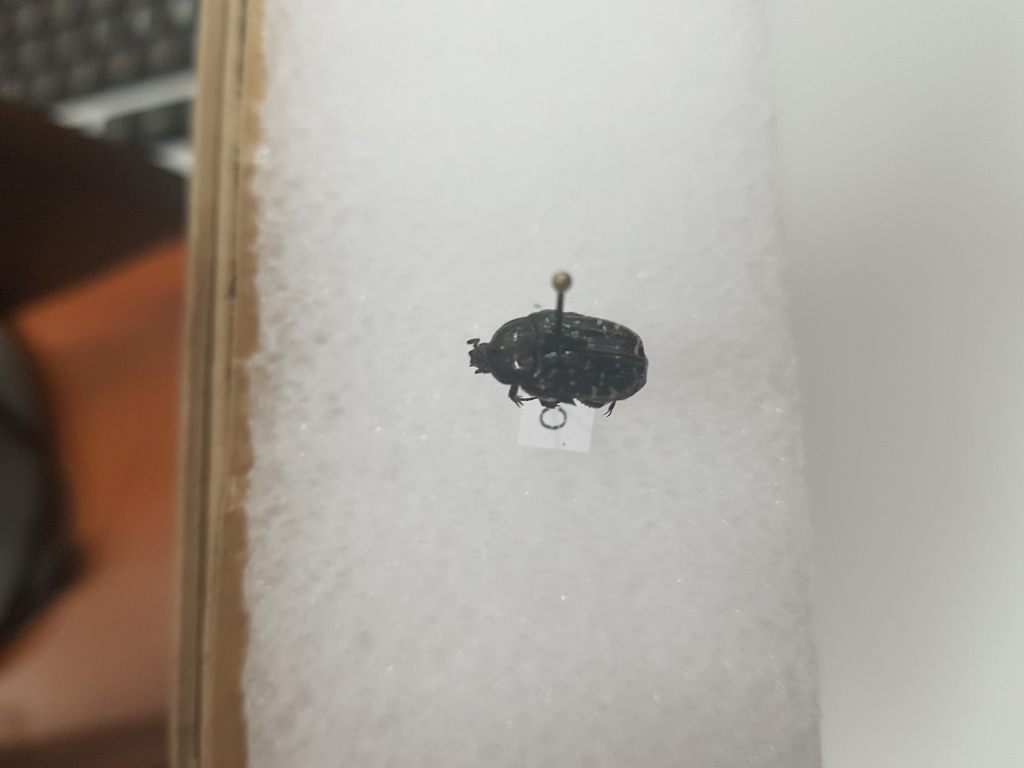Oxythyrea_albopicta: (462, 297, 660, 424)
